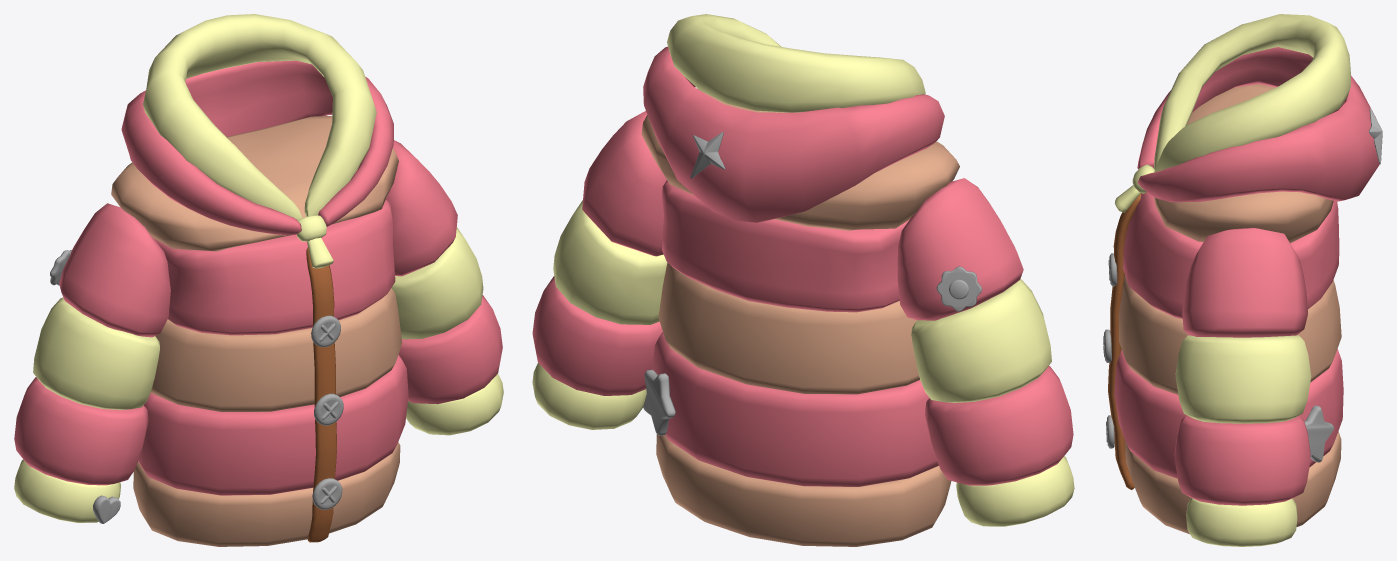
Rendered from Sweater.fbx.
The picture shows the model from 3 angles, left to right: view 1: azimuth 30°, elevation 25°; view 2: azimuth 150°, elevation 25°; view 3: azimuth 270°, elevation 25°; orthographic projection. The views are drawn at different scales.
Visible parts, largest first — view 1: S_Sweater, M_Sweater, D_Oai_23, D_Oai_33, D_Oai_32, D_Oai_15; view 2: S_Sweater, M_Sweater, D_Oai_21, D_Oai_27, D_Oai_26; view 3: S_Sweater, M_Sweater, D_Oai_27, D_Oai_26.
Part boxes in pixels (x1=…): S_Sweater: x1=111, y1=14, x2=408, y2=546; M_Sweater: x1=14, y1=140, x2=503, y2=522; D_Oai_23: x1=311, y1=315, x2=340, y2=347; D_Oai_33: x1=312, y1=478, x2=342, y2=509; D_Oai_32: x1=314, y1=393, x2=343, y2=425; D_Oai_15: x1=93, y1=495, x2=120, y2=523; S_Sweater: x1=641, y1=14, x2=959, y2=546; M_Sweater: x1=532, y1=111, x2=1074, y2=526; D_Oai_21: x1=936, y1=266, x2=982, y2=311; D_Oai_27: x1=643, y1=369, x2=675, y2=435; D_Oai_26: x1=690, y1=132, x2=725, y2=178; S_Sweater: x1=1108, y1=14, x2=1379, y2=534; M_Sweater: x1=1174, y1=227, x2=1311, y2=546; D_Oai_27: x1=1304, y1=405, x2=1333, y2=462; D_Oai_26: x1=1368, y1=108, x2=1382, y2=164.
Bounding box in the file's own units: 500 × 453 × 255.
